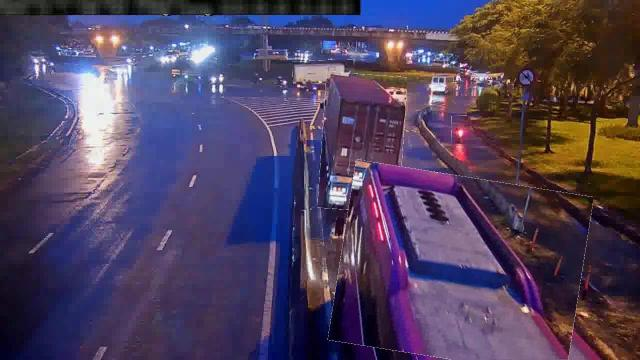Bike: (452, 116, 468, 144)
Bus: (334, 168, 588, 360)
Car: (372, 84, 402, 103)
Truck: (320, 72, 404, 212), (293, 60, 355, 84)
